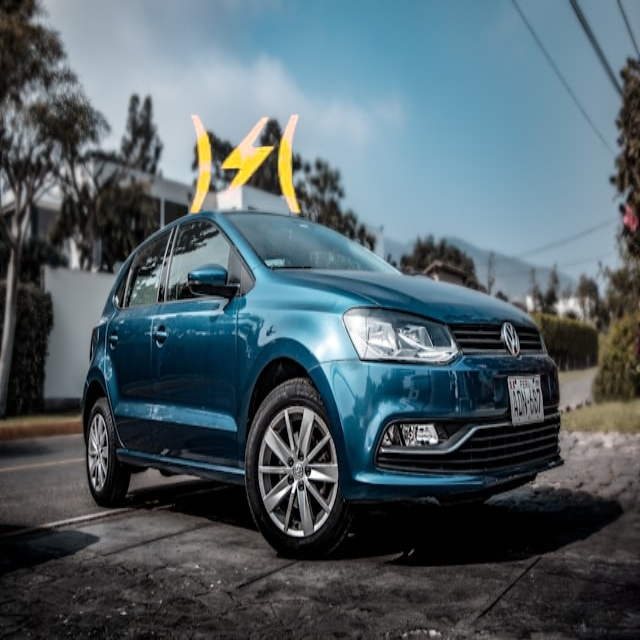symbol: (144, 63, 347, 266)
